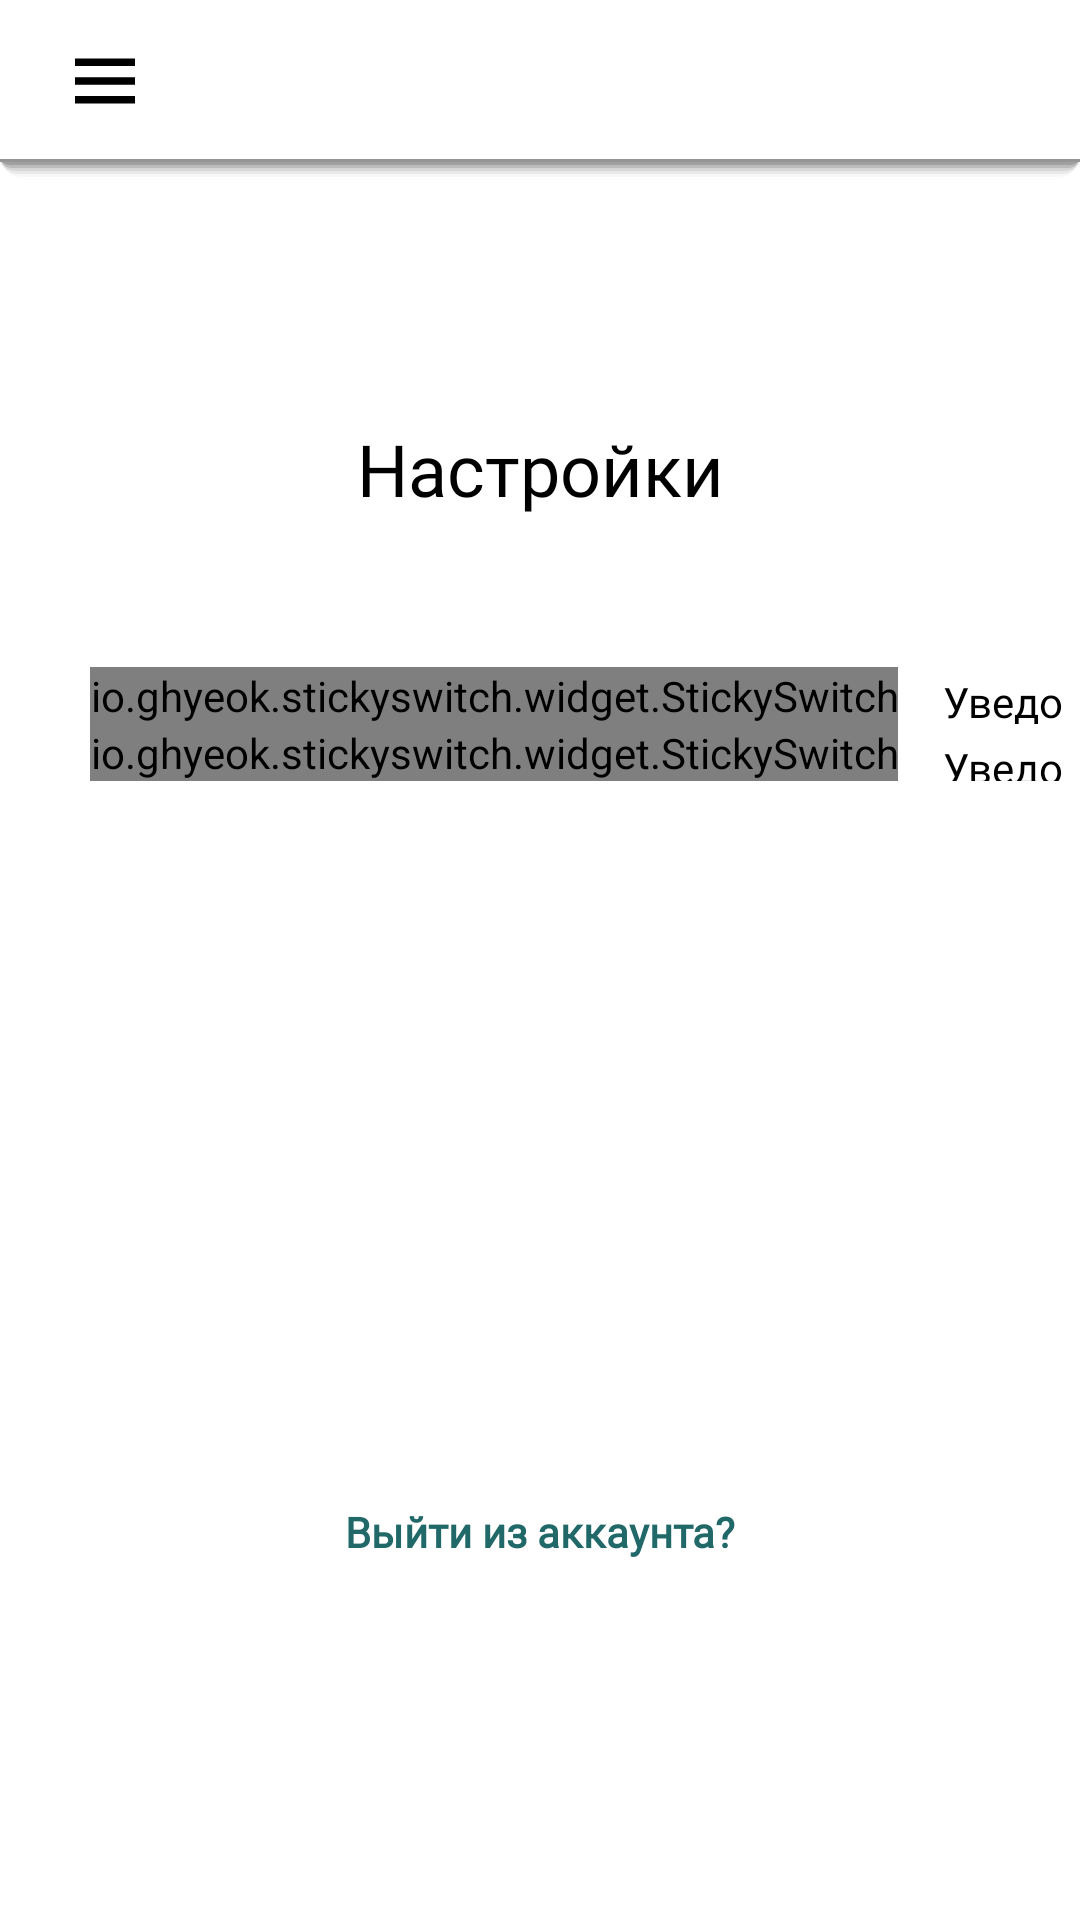

Icons on this 1080 × 1920 Android screen, each with the point to tap as (x,y):
three line: (105,81)
